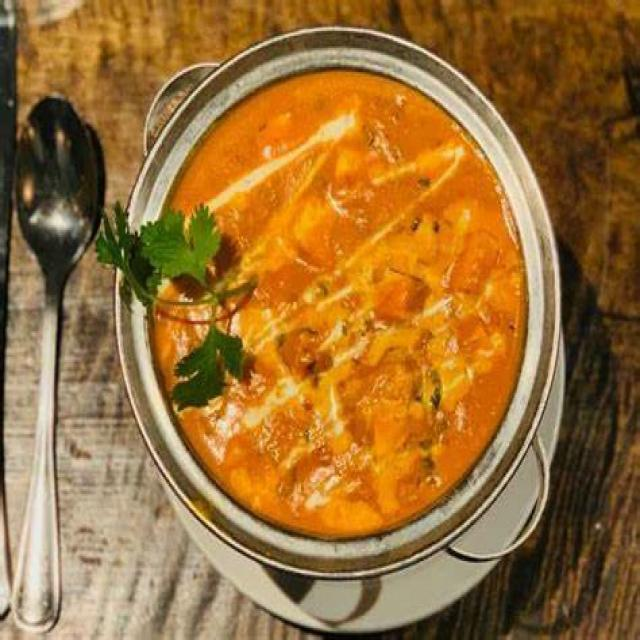ShahiPaneer: (152, 66, 527, 536)
